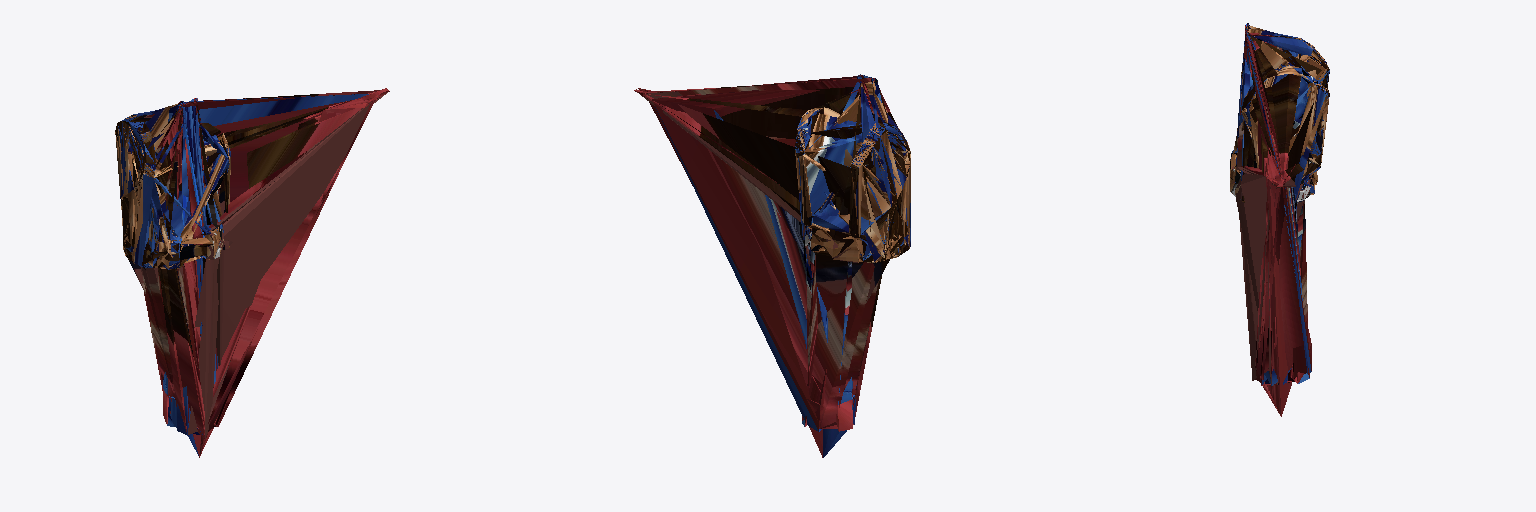
3 views of the same model, side by side, from view 1: azimuth 30°, elevation 25°; view 2: azimuth 150°, elevation 25°; view 3: azimuth 270°, elevation 25° (orthographic).
Visible parts, largest first — view 1: mesh52, mesh50, mesh17, mesh41, mesh08, mesh46, mesh07; view 2: mesh50, mesh52, mesh17, mesh08, mesh48, mesh39, mesh41, mesh07, mesh25, mesh46; view 3: mesh52, mesh50, mesh17, mesh41, mesh08, mesh07, mesh48, mesh39.
Boxes of the visible parts, box(x1,y1,x2,y2) form: mesh52: box(116, 88, 387, 456); mesh50: box(115, 88, 389, 457); mesh17: box(123, 94, 368, 455); mesh41: box(124, 99, 229, 269); mesh08: box(128, 101, 221, 266); mesh46: box(124, 153, 230, 268); mesh07: box(121, 118, 223, 268); mesh50: box(635, 75, 906, 455); mesh52: box(634, 75, 908, 457); mesh17: box(655, 74, 908, 457); mesh08: box(795, 79, 910, 261); mesh48: box(795, 107, 906, 258); mesh39: box(795, 130, 909, 260); mesh41: box(795, 75, 910, 262); mesh07: box(797, 108, 910, 261); mesh25: box(852, 136, 899, 261); mesh46: box(798, 141, 909, 259); mesh52: box(1230, 24, 1328, 412); mesh50: box(1232, 26, 1329, 416); mesh17: box(1232, 26, 1322, 385); mesh41: box(1230, 23, 1329, 201); mesh08: box(1230, 24, 1328, 202); mesh07: box(1230, 38, 1328, 199); mesh48: box(1236, 37, 1327, 185); mesh39: box(1231, 54, 1327, 202).
Size of the model in its own units: 0.4193 by 0.5694 by 0.1366.
4 materials, 2 textured.